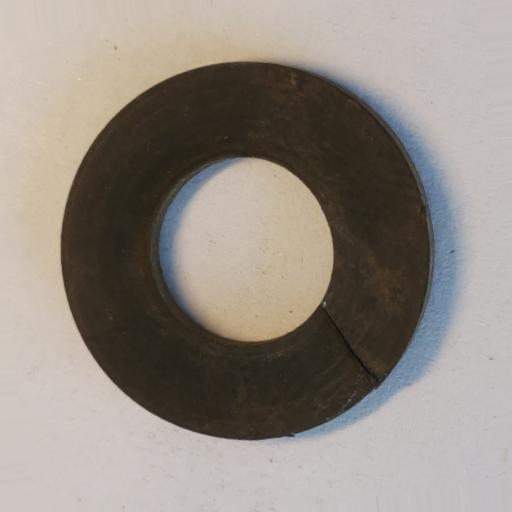defect: (321, 306, 381, 386)
